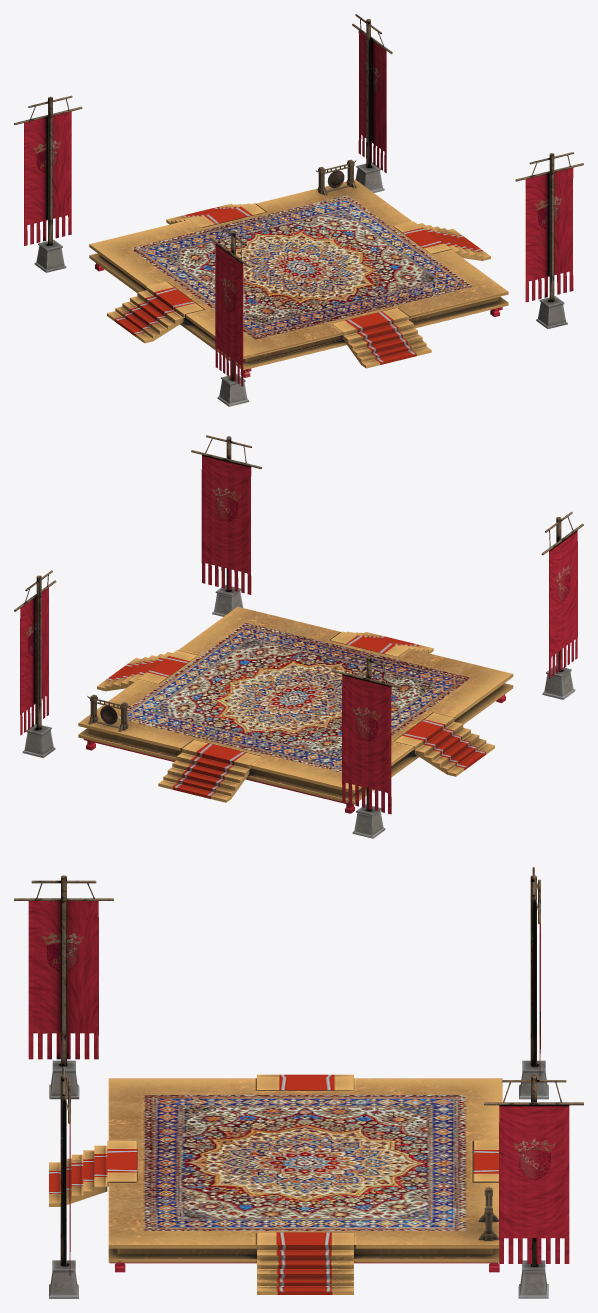
The model's file is Stage2.fbx.
3 renders of one model, top to bottom at view 1: azimuth 30°, elevation 25°; view 2: azimuth 150°, elevation 25°; view 3: azimuth 270°, elevation 25°, orthographic. The views are drawn at different scales.
Parts seen in each view (by area): view 1: Stage2; view 2: Stage2; view 3: Stage2.
Part boxes in pixels (x1,y1,x2,y2): Stage2: (14, 14, 583, 406); Stage2: (14, 435, 583, 838); Stage2: (14, 867, 583, 1298).
Size of the model in its own units: 36.27 by 15.14 by 36.15.
1 material, 1 textured.
